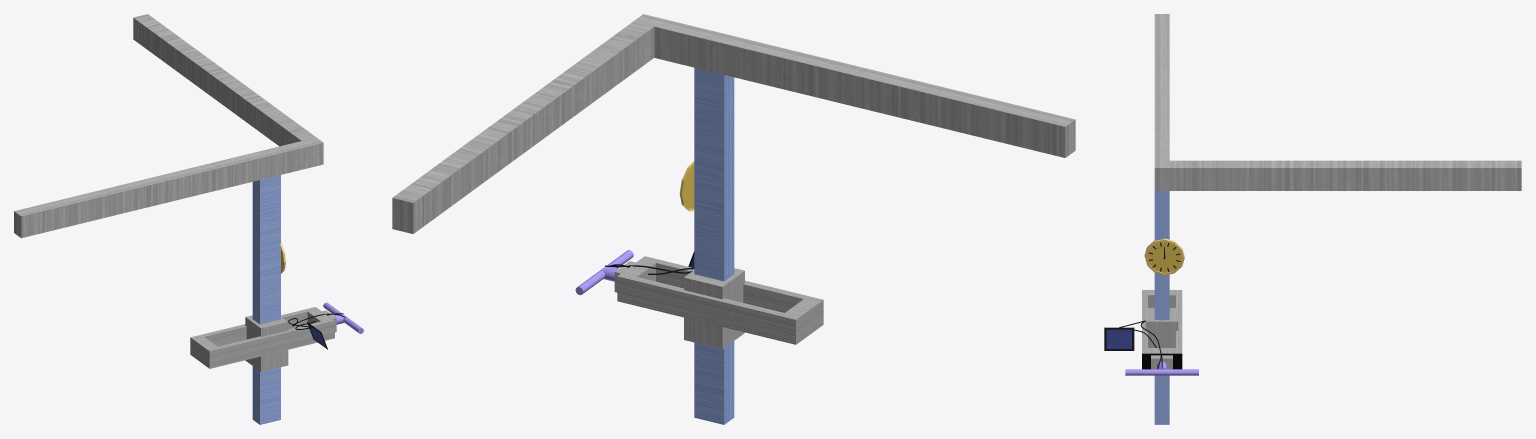
The model's file is strength_latest.glb.
3 renders of one model, left to right at view 1: azimuth 30°, elevation 25°; view 2: azimuth 150°, elevation 25°; view 3: azimuth 270°, elevation 25°, orthographic. The views are drawn at different scales.
Visible parts, largest first — view 1: ___.010, ___.009, ___.001, ___.006; view 2: ___.010, ___.009, ___.001, ___.006; view 3: ___.010, ___.003, ___.001, ___.006, ___03, ___01.016, ___.002, object_1.
Boxes of the visible parts, x1,y1,x2,y2 form: ___.010: (14, 14, 323, 238); ___.009: (252, 175, 280, 424); ___.001: (190, 307, 334, 368); ___.006: (245, 315, 288, 371); ___.010: (392, 14, 1075, 233); ___.009: (694, 67, 734, 424); ___.001: (617, 256, 823, 344); ___.006: (684, 268, 744, 349); ___.010: (1154, 14, 1521, 190); ___.003: (1154, 191, 1169, 424); ___.001: (1142, 290, 1182, 353); ___.006: (1145, 308, 1178, 347); ___03: (1159, 191, 1164, 420); ___01.016: (1147, 242, 1181, 272); ___.002: (1106, 329, 1131, 348); object_1: (1125, 369, 1198, 375).
Bounding box in the file's own units: 10.18 × 7.89 × 10.72.
Materials: 7 (6 with a texture image).
